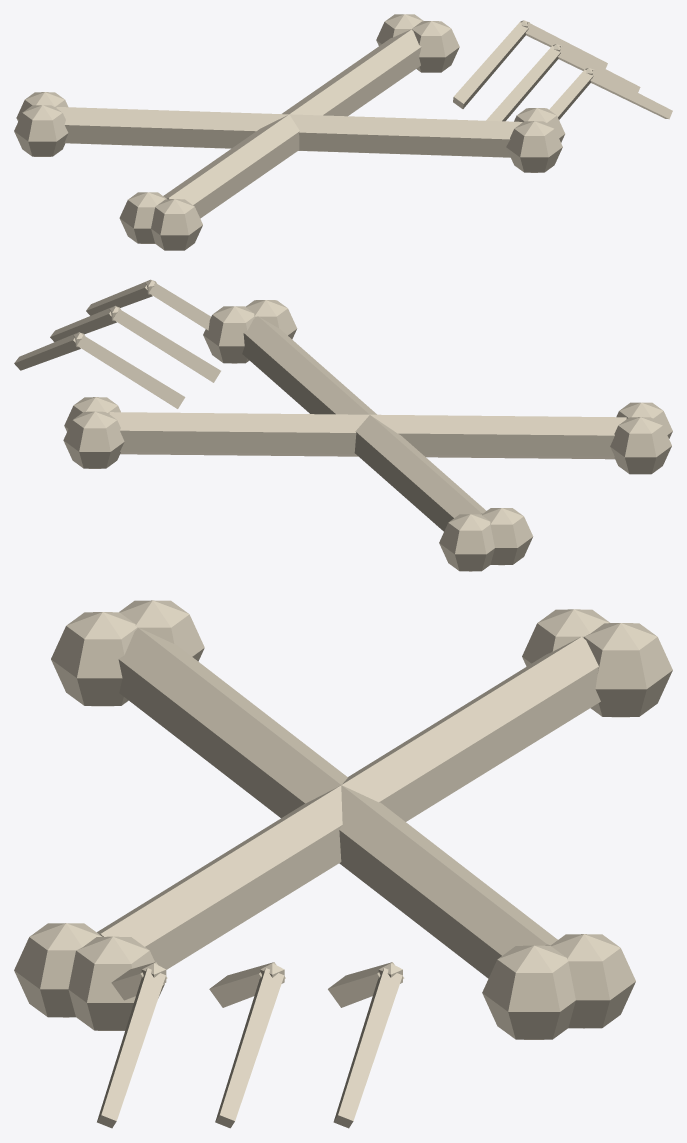
File: bones.glb
3 views of the same model, one above another, from view 1: azimuth 30°, elevation 25°; view 2: azimuth 150°, elevation 25°; view 3: azimuth 270°, elevation 25° (orthographic). The views are drawn at different scales.
Parts seen in each view (by area): view 1: Bones; view 2: Bones; view 3: Bones.
Part boxes in pixels (bbox=[...]): Bones: bbox=[14, 14, 672, 250]; Bones: bbox=[14, 279, 672, 571]; Bones: bbox=[14, 600, 672, 1128].
Size of the model in its own units: 0.4738 by 0.058 by 0.2784.
